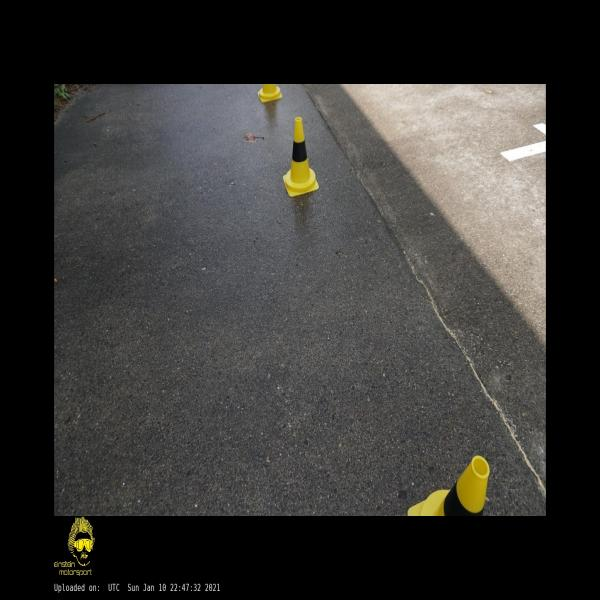yellow_cone: (407, 456, 489, 516), (283, 117, 319, 196)
